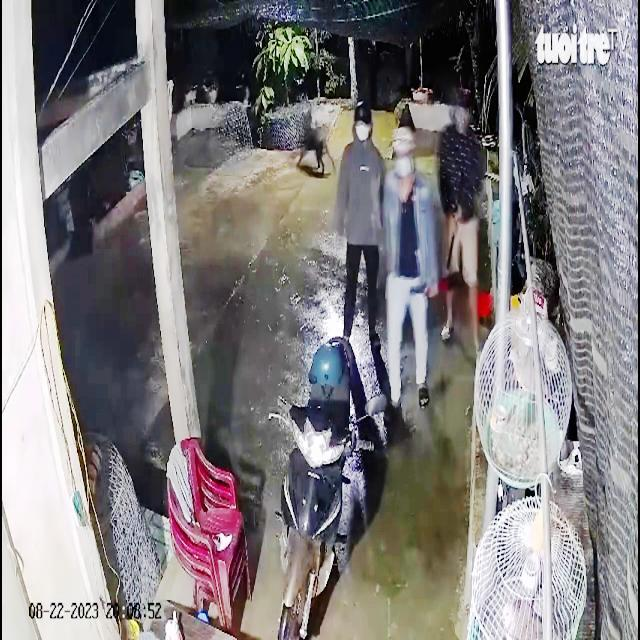Gun: (409, 274, 445, 314)
